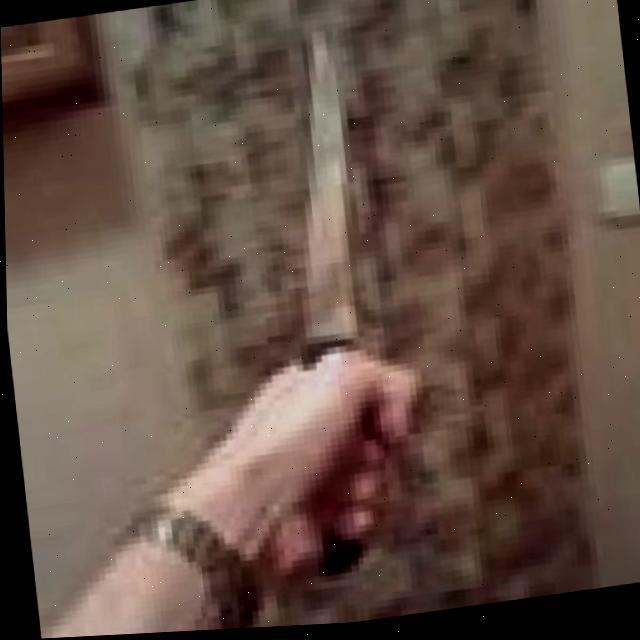knife: (265, 34, 398, 590)
